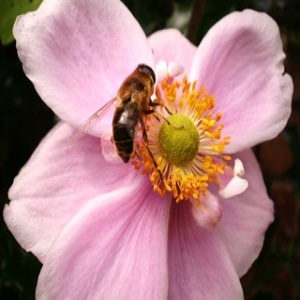bee: (112, 61, 158, 169)
